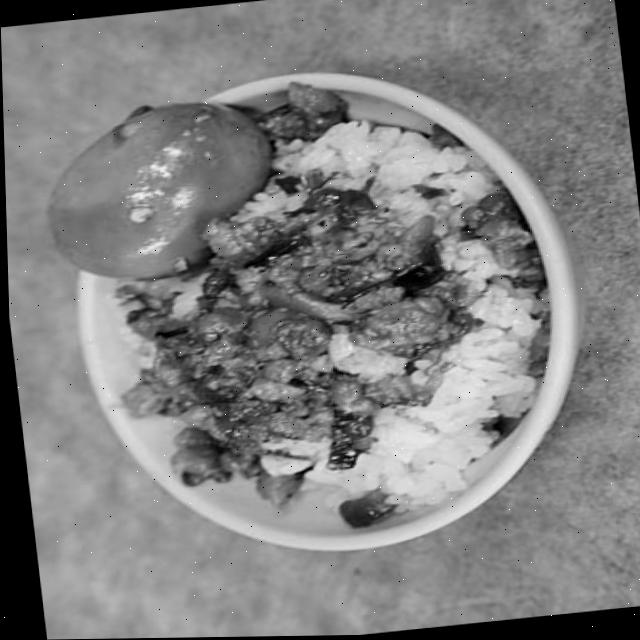猪肉菜式: (30, 30, 603, 585)
